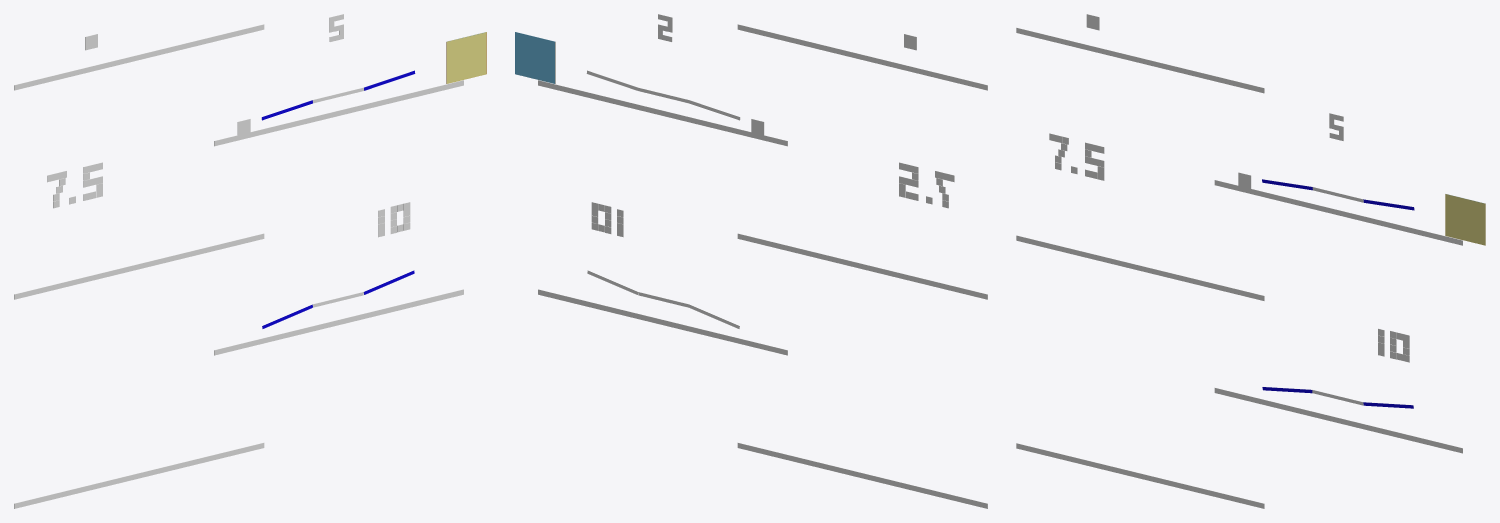
Rendered from TestLevel-Slopes.glb.
3 views of the same model, side by side, from view 1: azimuth 30°, elevation 25°; view 2: azimuth 150°, elevation 25°; view 3: azimuth 330°, elevation 25° (orthographic).
Visible parts, largest first — view 1: Platform (×5), Teleporter; view 2: Platform (×5), Teleporter; view 3: Platform (×5), Teleporter.
Part boxes in pixels (x1=…): Platform (×5): x1=14, y1=24, x2=463, y2=508; Teleporter: x1=446, y1=32, x2=486, y2=83; Platform (×5): x1=538, y1=24, x2=987, y2=508; Teleporter: x1=515, y1=32, x2=555, y2=83; Platform (×5): x1=1016, y1=27, x2=1462, y2=508; Teleporter: x1=1445, y1=194, x2=1485, y2=245.
Bounding box in the file's own units: 148 × 136 × 0.125.
7 materials, 2 textured.
